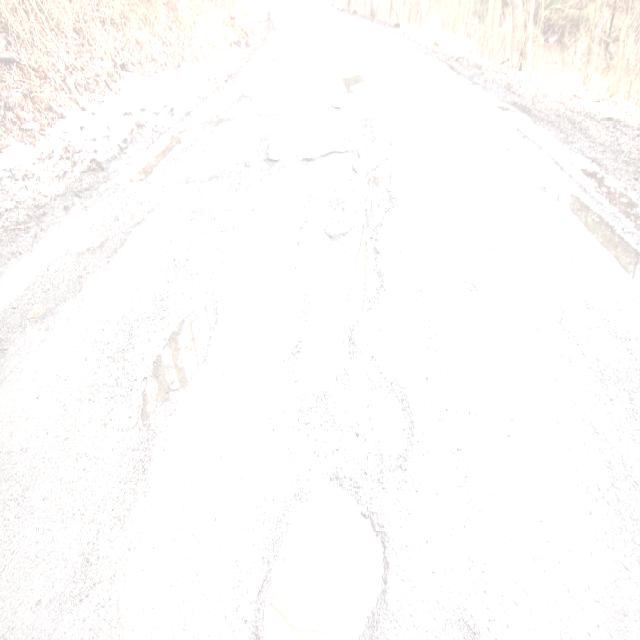Pothole: (240, 68, 415, 640)
